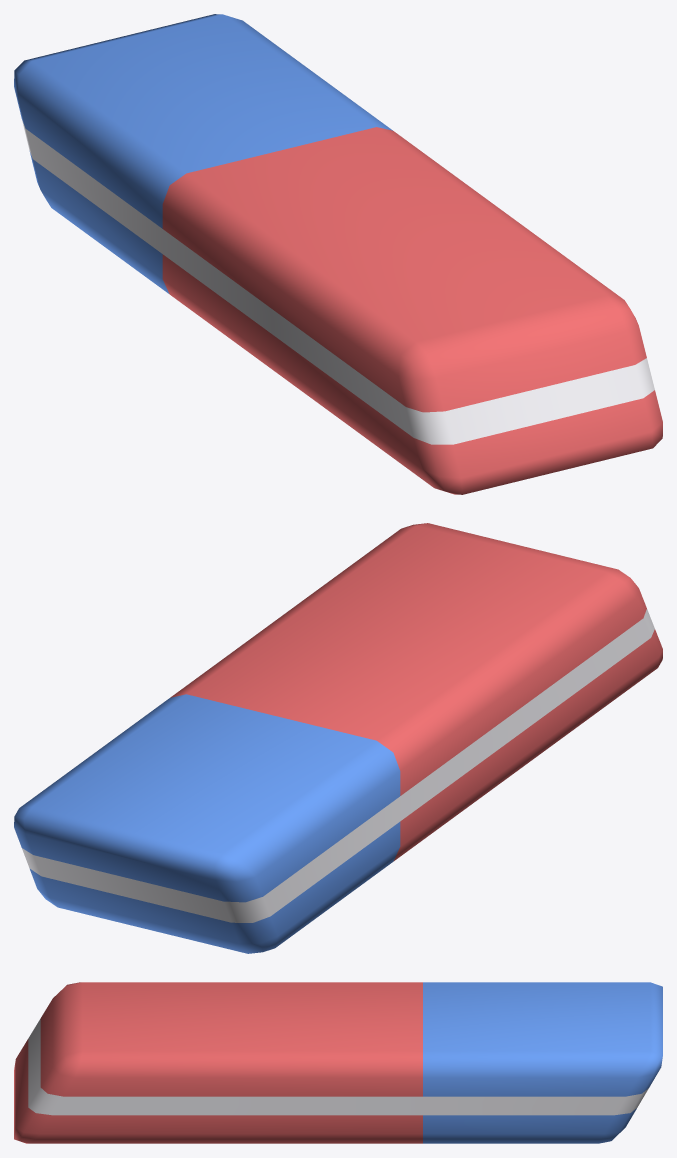
File: eraser.fbx
3 views of the same model, one above another, from view 1: azimuth 30°, elevation 25°; view 2: azimuth 150°, elevation 25°; view 3: azimuth 270°, elevation 25° (orthographic). The views are drawn at different scales.
Parts seen in each view (by area): view 1: eraser; view 2: eraser; view 3: eraser.
Boxes of the visible parts, x1,y1,x2,y2 form: eraser: (14,14,662,494); eraser: (14,523,662,953); eraser: (14,982,662,1143).
Bounding box in the file's own units: 0.0446 × 0.0224 × 0.1428.
